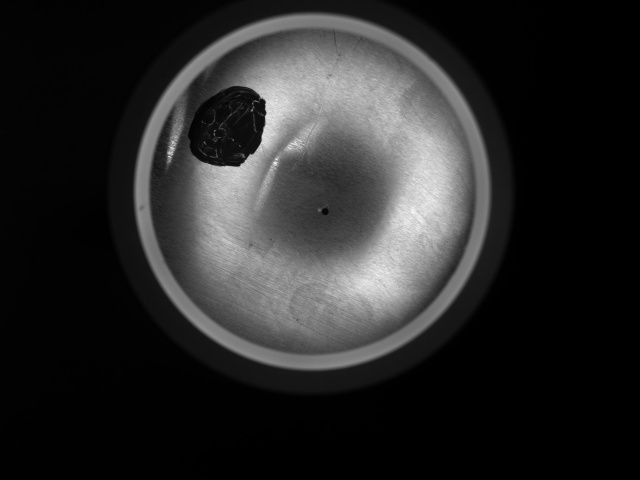zang_wu: (184, 85, 270, 170)
zhen_kong: (316, 204, 334, 219)
